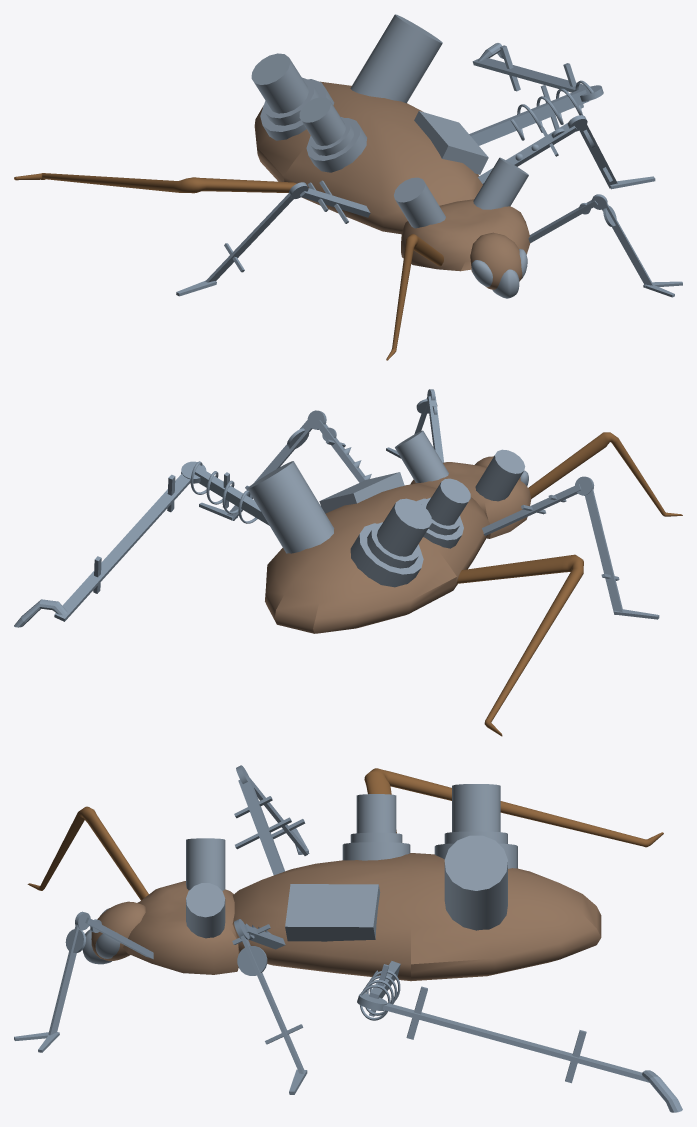
The model's file is Cyber_Roach.fbx.
3 renders of one model, top to bottom at view 1: azimuth 30°, elevation 25°; view 2: azimuth 150°, elevation 25°; view 3: azimuth 270°, elevation 25°, orthographic. The views are drawn at different scales.
Parts seen in each view (by area): view 1: Cuerpo_trasero, Cuerpo_medio, Tubo3, Cilindro (×2), Base (×2), Pierna_2 (×4), Pierna_organica_trasera, Pierna (×2), Implemento1, Cabeza, Tubo2, Tubo1 (+5 smaller); view 2: Cuerpo_trasero, Tubo3, Pierna_2 (×3), Pierna_organica_trasera, Cilindro (×2), Base (×2), Cuerpo_medio, Pierna_organica_frontal, Tubo1, Tubo2, Pierna (×2), Implemento1 (+4 smaller); view 3: Cuerpo_trasero, Cuerpo_medio, Tubo3, Implemento1, Pierna_2 (×3), Cilindro (×2), Pierna_organica_trasera, Base (×2), Pierna_organica_frontal, Tubo2, Tubo1, Cabeza (+5 smaller).
Part boxes in pixels (x1,y1,x2,y2): Cuerpo_trasero: [254, 81, 482, 234]; Cuerpo_medio: [401, 199, 530, 271]; Tubo3: [350, 14, 442, 103]; Cilindro (×2): [251, 53, 345, 145]; Base (×2): [260, 77, 367, 172]; Pierna_2 (×4): [205, 58, 653, 285]; Pierna_organica_trasera: [14, 173, 296, 193]; Pierna (×2): [469, 88, 589, 184]; Implemento1: [414, 111, 488, 174]; Cabeza: [470, 232, 522, 289]; Tubo2: [473, 157, 528, 209]; Tubo1: [394, 177, 445, 228]; Cuerpo_trasero: [265, 483, 489, 633]; Tubo3: [247, 461, 334, 553]; Pierna_2 (×3): [54, 420, 623, 621]; Pierna_organica_trasera: [457, 554, 583, 736]; Cilindro (×2): [377, 478, 470, 556]; Base (×2): [350, 497, 463, 587]; Cuerpo_medio: [410, 462, 531, 538]; Pierna_organica_frontal: [528, 432, 682, 516]; Tubo1: [475, 449, 525, 501]; Tubo2: [395, 430, 448, 482]; Pierna (×2): [194, 420, 364, 525]; Implemento1: [319, 472, 404, 513]; Cuerpo_trasero: [232, 853, 601, 981]; Cuerpo_medio: [123, 881, 239, 974]; Tubo3: [444, 835, 507, 930]; Implemento1: [285, 884, 380, 941]; Pierna_2 (×3): [48, 924, 649, 1082]; Cilindro (×2): [356, 784, 500, 833]; Pierna_organica_trasera: [364, 768, 663, 847]; Base (×2): [342, 831, 517, 868]; Pierna_organica_frontal: [27, 806, 148, 900]; Tubo2: [186, 883, 225, 938]; Tubo1: [186, 838, 225, 890]; Cabeza: [91, 901, 145, 960].
Bounding box in the file's own units: 20.3 × 5.82 × 20.8.
